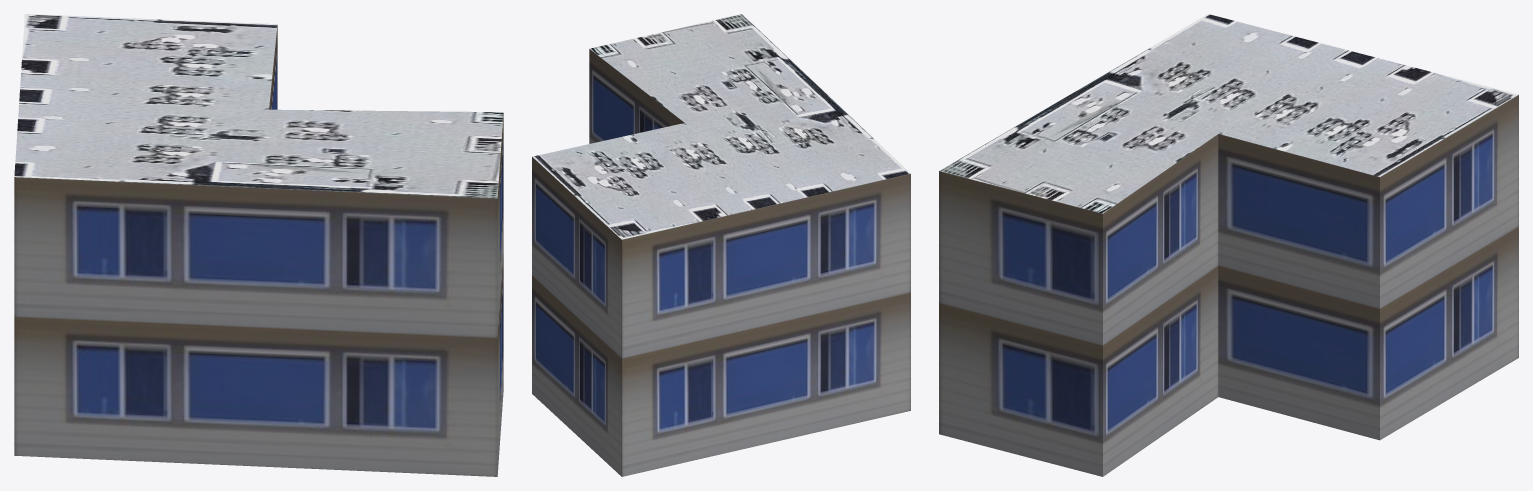
Rendered from ResTex__4419.fbx.
3 renders of one model, left to right at view 1: azimuth 30°, elevation 25°; view 2: azimuth 150°, elevation 25°; view 3: azimuth 270°, elevation 25°, orthographic. The views are drawn at different scales.
Visible parts, largest first — view 1: CityEngineMaterial_23_m, CityEngineMaterial_8_m; view 2: CityEngineMaterial_23_m, CityEngineMaterial_8_m; view 3: CityEngineMaterial_23_m, CityEngineMaterial_8_m.
Boxes of the visible parts, left/top/right/bottom form: CityEngineMaterial_23_m: left=14, top=25, right=503, bottom=476; CityEngineMaterial_8_m: left=14, top=14, right=503, bottom=198; CityEngineMaterial_23_m: left=532, top=49, right=910, bottom=476; CityEngineMaterial_8_m: left=532, top=14, right=910, bottom=239; CityEngineMaterial_23_m: left=939, top=95, right=1518, bottom=476; CityEngineMaterial_8_m: left=939, top=14, right=1518, bottom=213.
Bounding box in the file's own units: 9.76 × 6 × 11.98.
2 materials, 2 textured.
